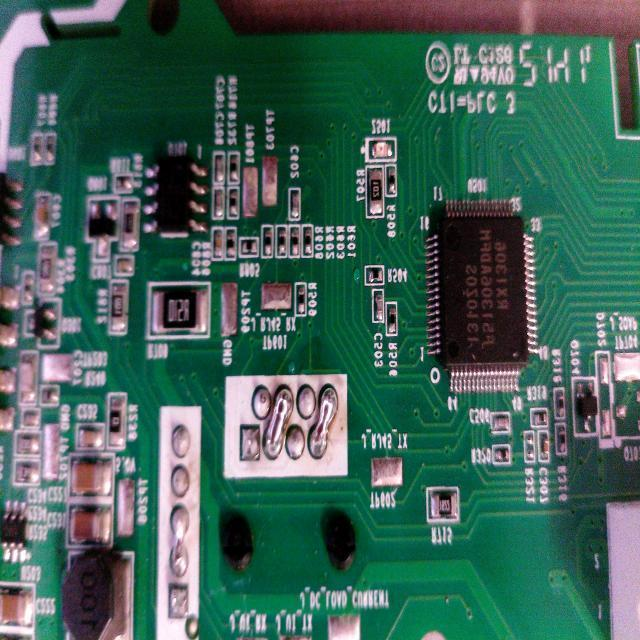Soldering shorted: (263, 379, 298, 469), (310, 384, 342, 464), (169, 508, 191, 588)
